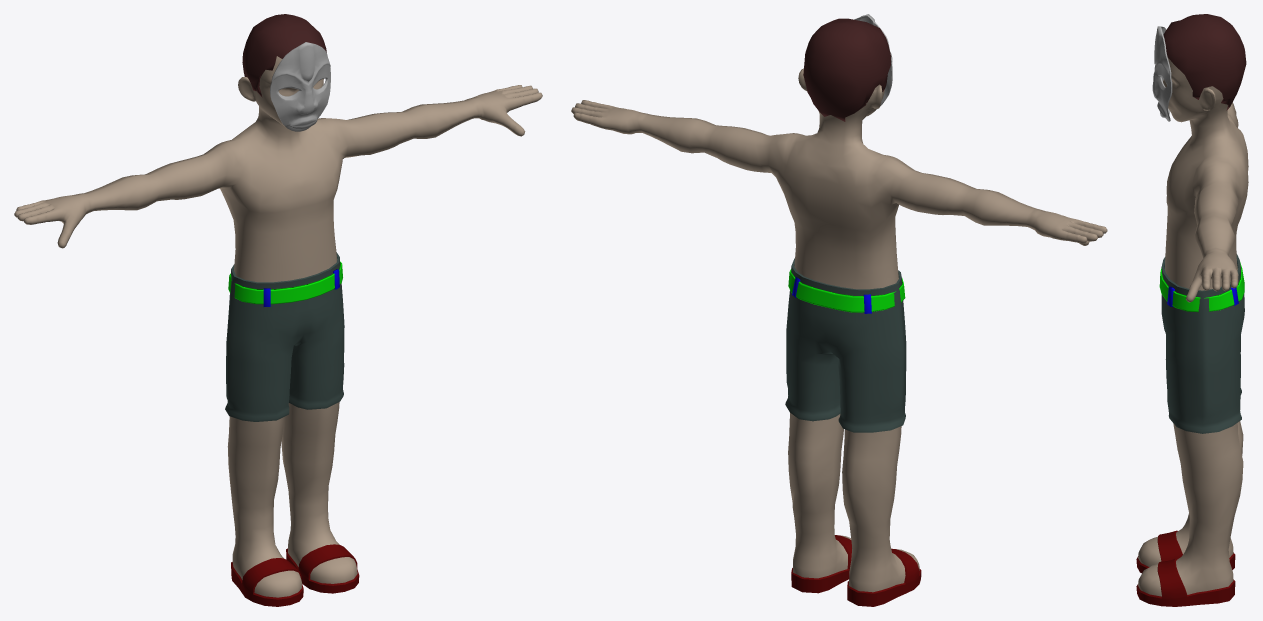
File: Male_NPC_Beta.fbx
3 views of the same model, side by side, from view 1: azimuth 30°, elevation 25°; view 2: azimuth 150°, elevation 25°; view 3: azimuth 270°, elevation 25° (orthographic).
Parts seen in each view (by area): view 1: Male_Villager_Hair; view 2: Male_Villager_Hair; view 3: Male_Villager_Hair.
Part boxes in pixels (box(x1,y1,x2,y2)): Male_Villager_Hair: box(14, 14, 542, 606); Male_Villager_Hair: box(571, 14, 1107, 606); Male_Villager_Hair: box(1136, 14, 1248, 606).
Bounding box in the file's own units: 176 × 180 × 32.51.
